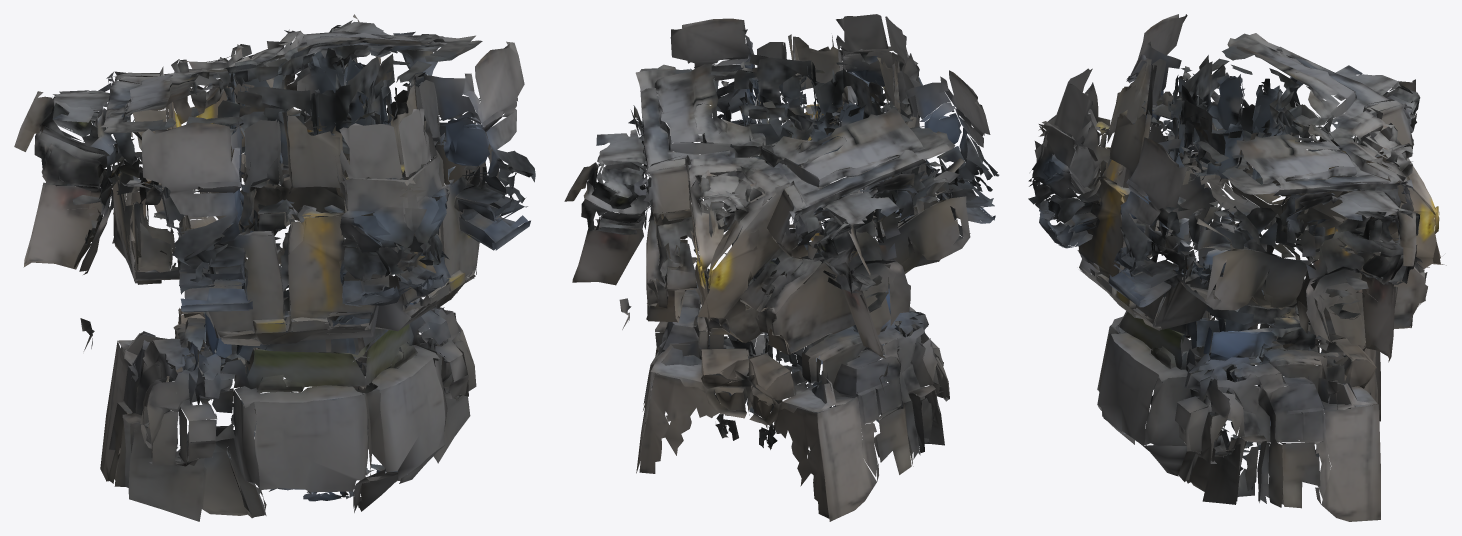
File: tankblock_body_001.glb
3 renders of one model, left to right at view 1: azimuth 30°, elevation 25°; view 2: azimuth 150°, elevation 25°; view 3: azimuth 270°, elevation 25°, orthographic. The views are drawn at different scales.
Parts seen in each view (by area): view 1: W_body; view 2: W_body; view 3: W_body.
Boxes of the visible parts, x1,y1,x2,y2 form: W_body: (14, 14, 535, 521); W_body: (564, 14, 999, 521); W_body: (1028, 14, 1446, 521).
Size of the model in its own units: 1.35 by 1.52 by 1.48.
Materials: 1 (1 with a texture image).
